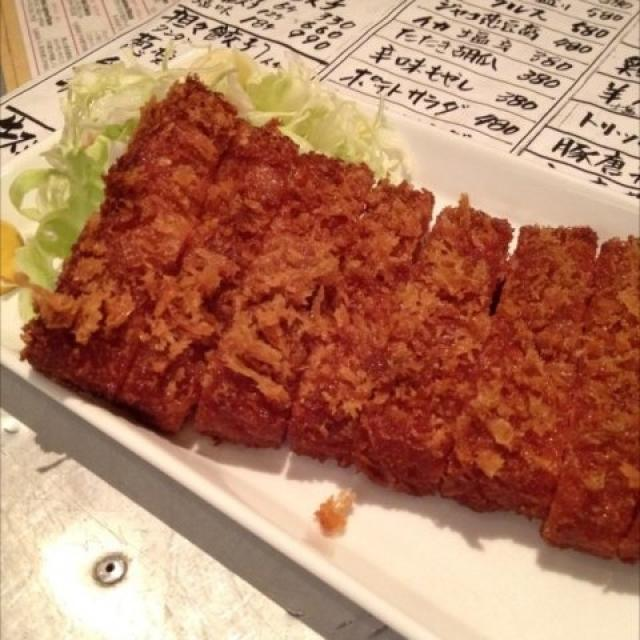炸货点心: (29, 43, 634, 600)
